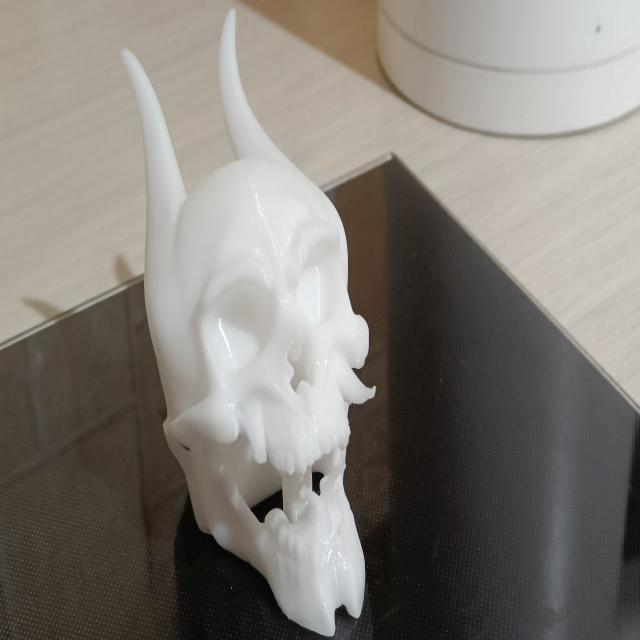Without deffect: (109, 5, 379, 636)
